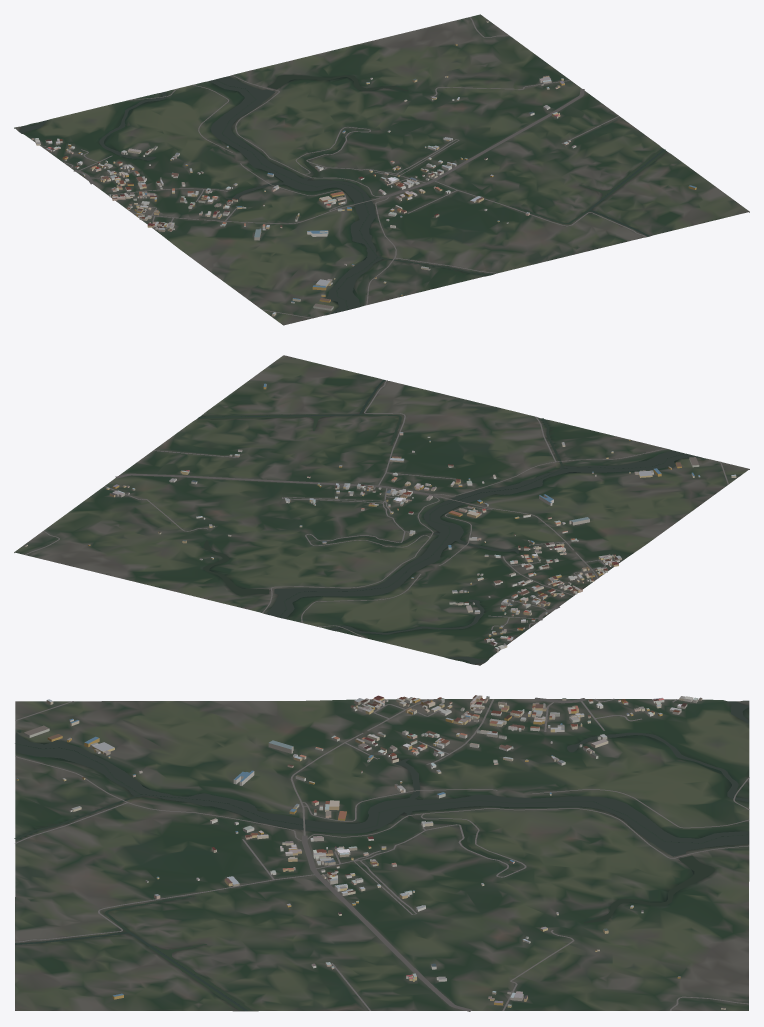
3 views of the same model, one above another, from view 1: azimuth 30°, elevation 25°; view 2: azimuth 150°, elevation 25°; view 3: azimuth 270°, elevation 25° (orthographic). The views are drawn at different scales.
Parts seen in each view (by area): view 1: ground, water, buildings, roads; view 2: ground, water, buildings, roads; view 3: ground, water, buildings, roads.
Boxes of the visible parts, x1,y1,x2,y2 form: ground: (14,14,749,325); water: (19,75,666,313); buildings: (31,20,696,316); roads: (40,17,646,318); ground: (14,355,749,665); water: (197,379,704,664); buildings: (24,383,736,652); roads: (24,380,728,645); ground: (15,699,749,1011); water: (14,701,748,1011); buildings: (16,695,725,1009); roads: (15,697,749,1011).
Size of the model in its own units: 1411 by 16.38 by 1404.
